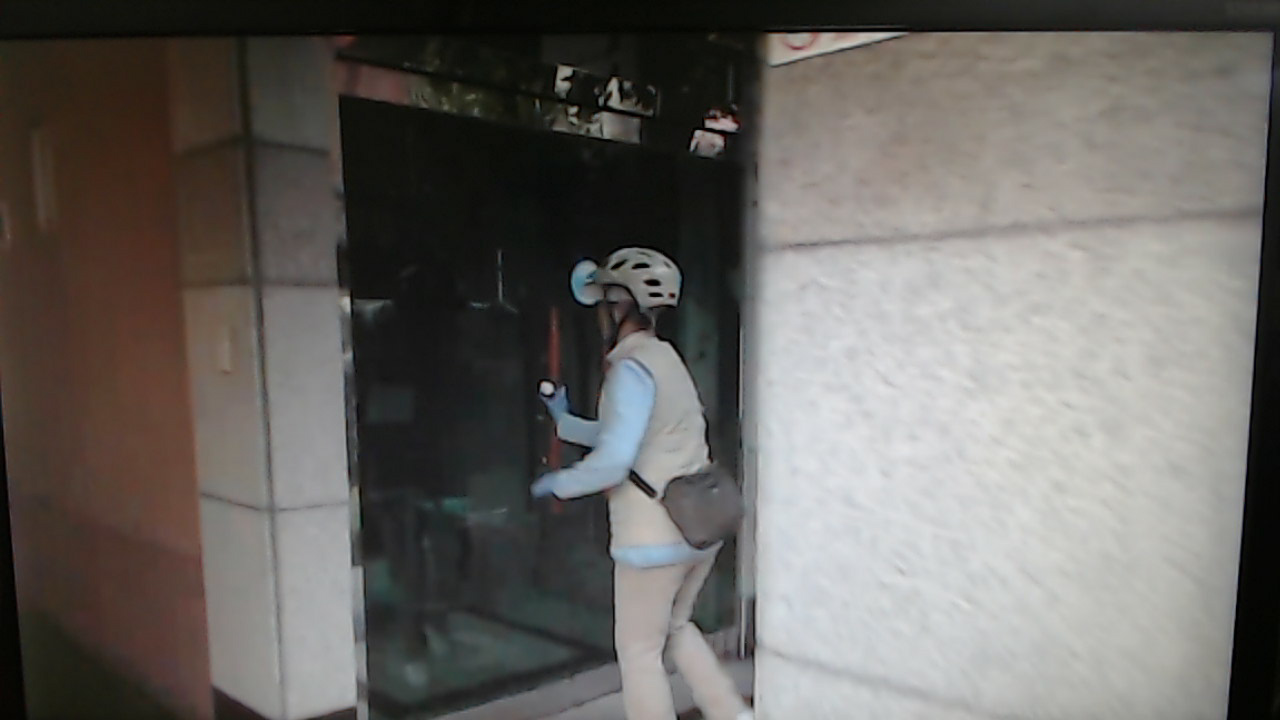Yakurut: (537, 242, 757, 720)
